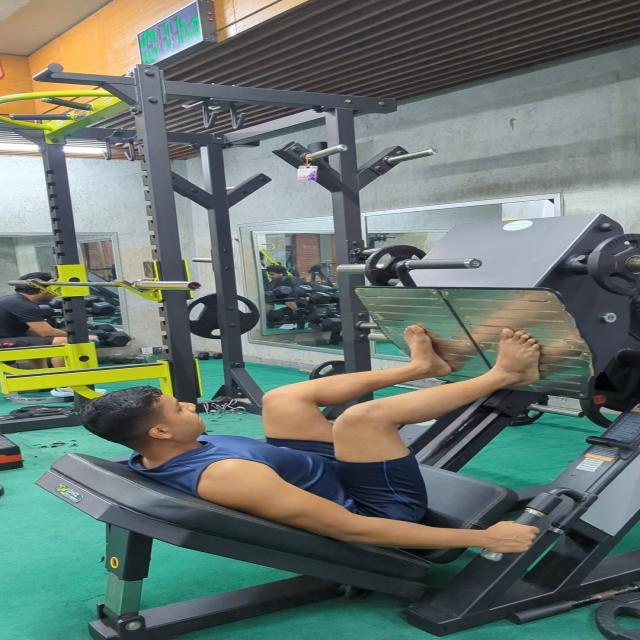Normal_LegPress: (65, 318, 569, 572)
